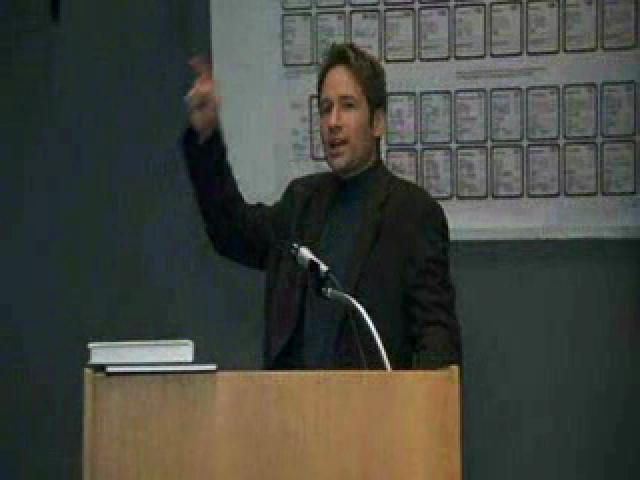T: (159, 39, 464, 389)
